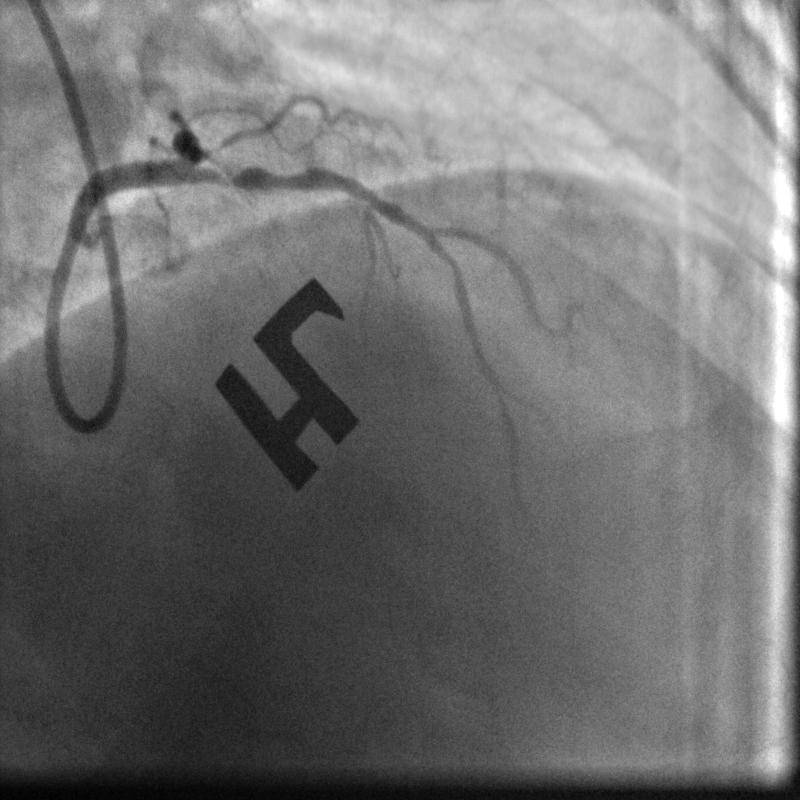Stenosis: (210, 158, 322, 187)
